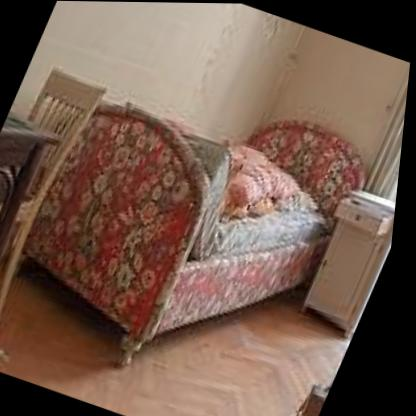Bed: (0, 50, 395, 413)
Chair: (0, 57, 114, 331)
